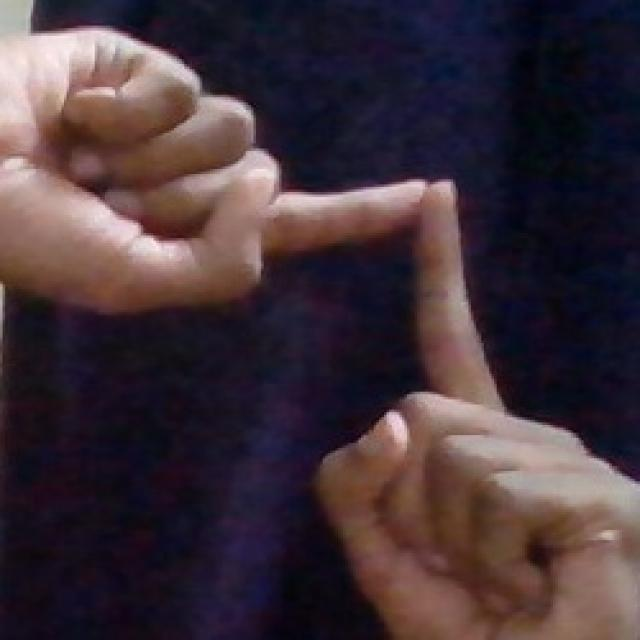Alphabet-E: (0, 28, 426, 315)
